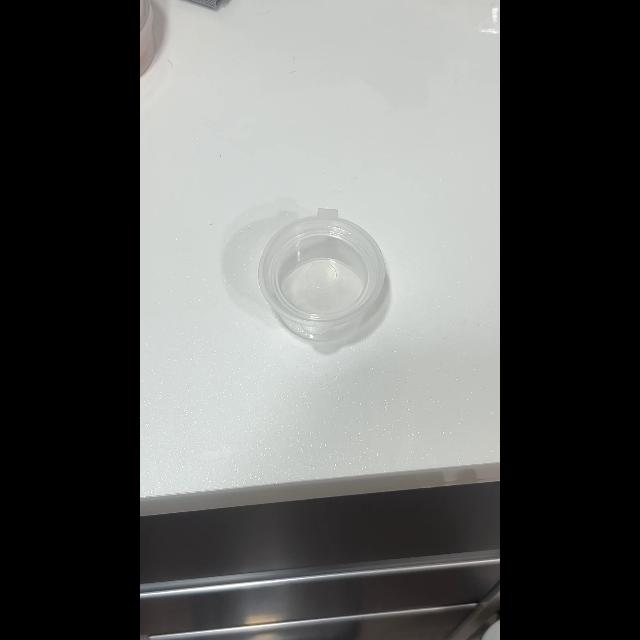clean: (260, 204, 388, 342)
